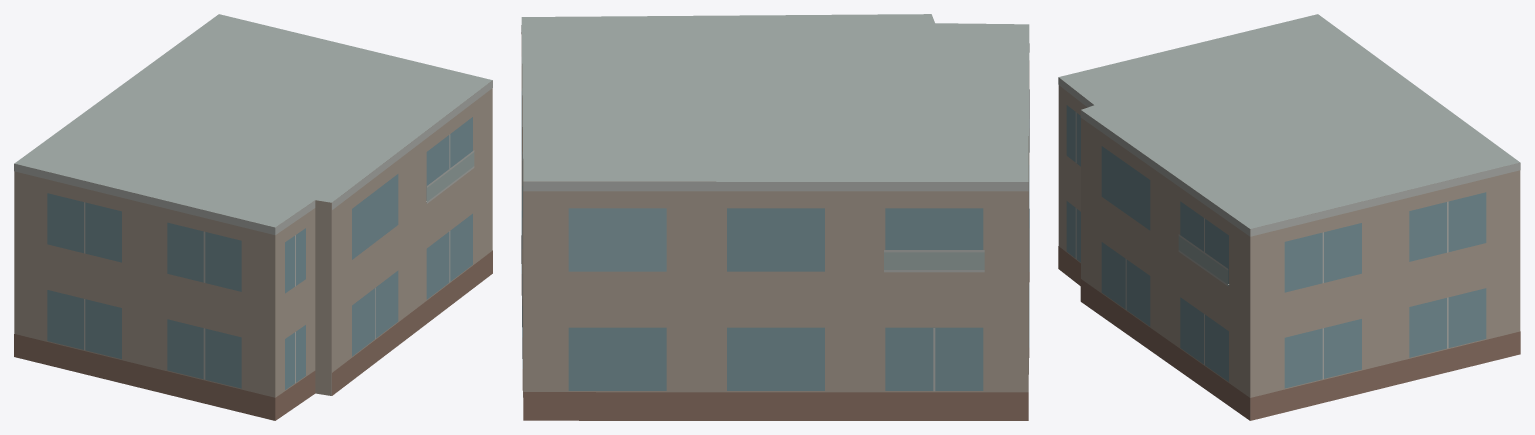
File: survey-upis-32695346.glb
3 views of the same model, side by side, from view 1: azimuth 30°, elevation 25°; view 2: azimuth 150°, elevation 25°; view 3: azimuth 270°, elevation 25° (orthographic). The views are drawn at different scales.
Visible parts, largest first — view 1: survey-upis-32695346.tmp; view 2: survey-upis-32695346.tmp; view 3: survey-upis-32695346.tmp.
Part boxes in pixels (left/top/right/bottom): survey-upis-32695346.tmp: left=14, top=14, right=492, bottom=420; survey-upis-32695346.tmp: left=521, top=14, right=1029, bottom=420; survey-upis-32695346.tmp: left=1058, top=14, right=1520, bottom=420.
Size of the model in its own units: 14.68 by 6.1 by 13.33.
